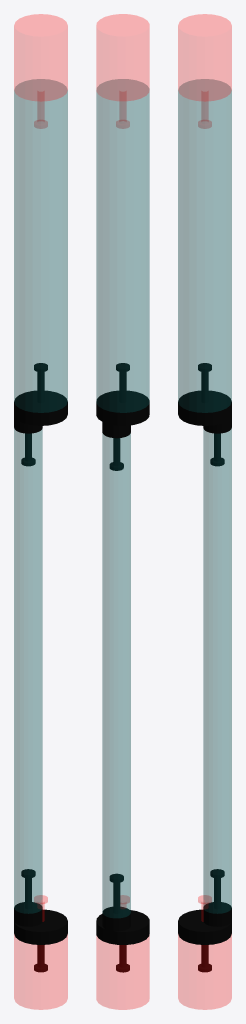
File: VerticalFittingTreeSplitAndResize.gltf
The picture shows the model from 3 angles, left to right: view 1: azimuth 90°, elevation 25°; view 2: azimuth 150°, elevation 25°; view 3: azimuth 270°, elevation 25°; orthographic projection.
Parts seen in each view (by area): view 1: 996dd985-e36a-4c6f-b212-fc22f11ea69c_mesh, a1996ef6-ffb4-4692-ab5f-651f13e6ad2c_mesh, 149f7b8d-fc82-45dd-9fb8-d32f3d8499f5_mesh, 9b007f71-dcf8-440b-9f31-62f9d132f723_mesh, 3d909429-5bd5-4011-854e-ab0a2a82fb75_mesh, 1667f64e-5329-4dce-90ce-f2e4d2ad36e4_mesh; view 2: 996dd985-e36a-4c6f-b212-fc22f11ea69c_mesh, a1996ef6-ffb4-4692-ab5f-651f13e6ad2c_mesh, 149f7b8d-fc82-45dd-9fb8-d32f3d8499f5_mesh, 9b007f71-dcf8-440b-9f31-62f9d132f723_mesh, 1667f64e-5329-4dce-90ce-f2e4d2ad36e4_mesh, 3d909429-5bd5-4011-854e-ab0a2a82fb75_mesh; view 3: 996dd985-e36a-4c6f-b212-fc22f11ea69c_mesh, a1996ef6-ffb4-4692-ab5f-651f13e6ad2c_mesh, 149f7b8d-fc82-45dd-9fb8-d32f3d8499f5_mesh, 9b007f71-dcf8-440b-9f31-62f9d132f723_mesh, 3d909429-5bd5-4011-854e-ab0a2a82fb75_mesh, 1667f64e-5329-4dce-90ce-f2e4d2ad36e4_mesh.
Boxes of the visible parts, <box> form: 996dd985-e36a-4c6f-b212-fc22f11ea69c_mesh: <box>14,79,67,412</box>; a1996ef6-ffb4-4692-ab5f-651f13e6ad2c_mesh: <box>14,428,42,913</box>; 149f7b8d-fc82-45dd-9fb8-d32f3d8499f5_mesh: <box>14,14,67,128</box>; 9b007f71-dcf8-440b-9f31-62f9d132f723_mesh: <box>14,895,67,1009</box>; 3d909429-5bd5-4011-854e-ab0a2a82fb75_mesh: <box>14,869,67,972</box>; 1667f64e-5329-4dce-90ce-f2e4d2ad36e4_mesh: <box>14,363,67,466</box>; 996dd985-e36a-4c6f-b212-fc22f11ea69c_mesh: <box>96,79,149,412</box>; a1996ef6-ffb4-4692-ab5f-651f13e6ad2c_mesh: <box>102,433,130,917</box>; 149f7b8d-fc82-45dd-9fb8-d32f3d8499f5_mesh: <box>96,14,149,128</box>; 9b007f71-dcf8-440b-9f31-62f9d132f723_mesh: <box>96,895,149,1009</box>; 1667f64e-5329-4dce-90ce-f2e4d2ad36e4_mesh: <box>96,363,149,470</box>; 3d909429-5bd5-4011-854e-ab0a2a82fb75_mesh: <box>96,873,149,972</box>; 996dd985-e36a-4c6f-b212-fc22f11ea69c_mesh: <box>178,79,231,412</box>; a1996ef6-ffb4-4692-ab5f-651f13e6ad2c_mesh: <box>203,428,231,913</box>; 149f7b8d-fc82-45dd-9fb8-d32f3d8499f5_mesh: <box>178,14,231,128</box>; 9b007f71-dcf8-440b-9f31-62f9d132f723_mesh: <box>178,895,231,1009</box>; 3d909429-5bd5-4011-854e-ab0a2a82fb75_mesh: <box>178,869,231,972</box>; 1667f64e-5329-4dce-90ce-f2e4d2ad36e4_mesh: <box>178,363,231,466</box>.
Bounding box in the file's own units: 0.15 × 3 × 0.15.
